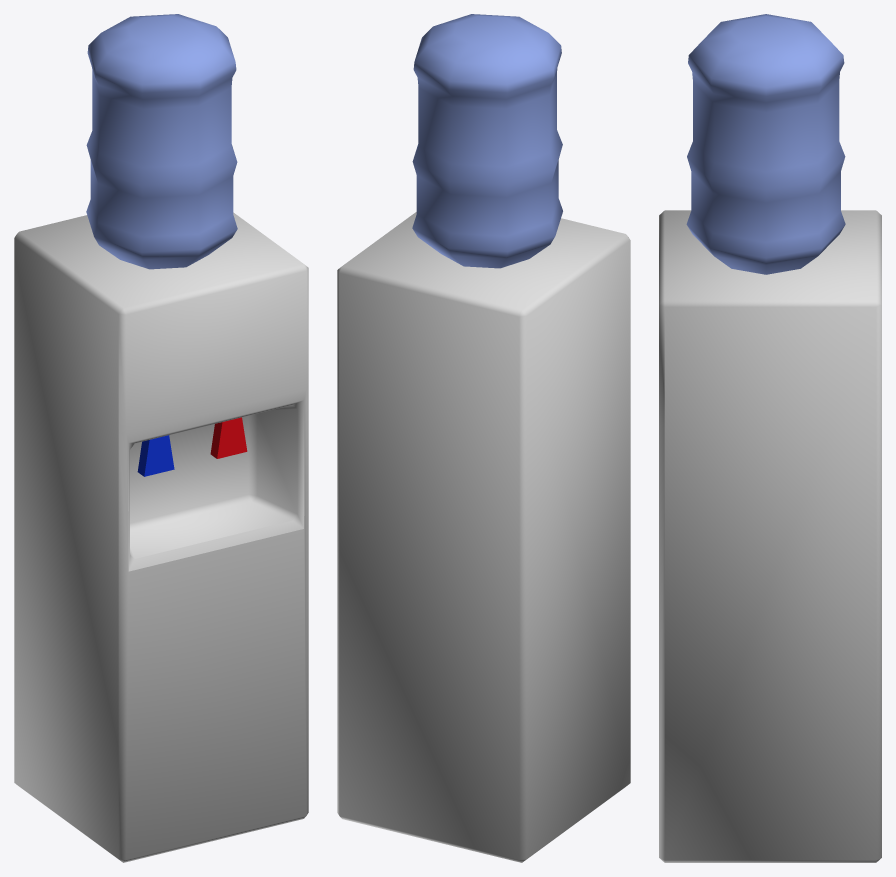
The model's file is aquaservice.fbx.
3 views of the same model, side by side, from view 1: azimuth 30°, elevation 25°; view 2: azimuth 150°, elevation 25°; view 3: azimuth 270°, elevation 25° (orthographic).
Parts seen in each view (by area): view 1: Aquaservice, Cube.001, Cube; view 2: Aquaservice; view 3: Aquaservice.
Part boxes in pixels (bbox=[...]): Aquaservice: bbox=[14, 14, 308, 862]; Cube.001: bbox=[137, 435, 174, 476]; Cube: bbox=[210, 417, 247, 458]; Aquaservice: bbox=[337, 14, 630, 862]; Aquaservice: bbox=[659, 14, 881, 862].
Bounding box in the file's own units: 55.64 × 217 × 55.64.
